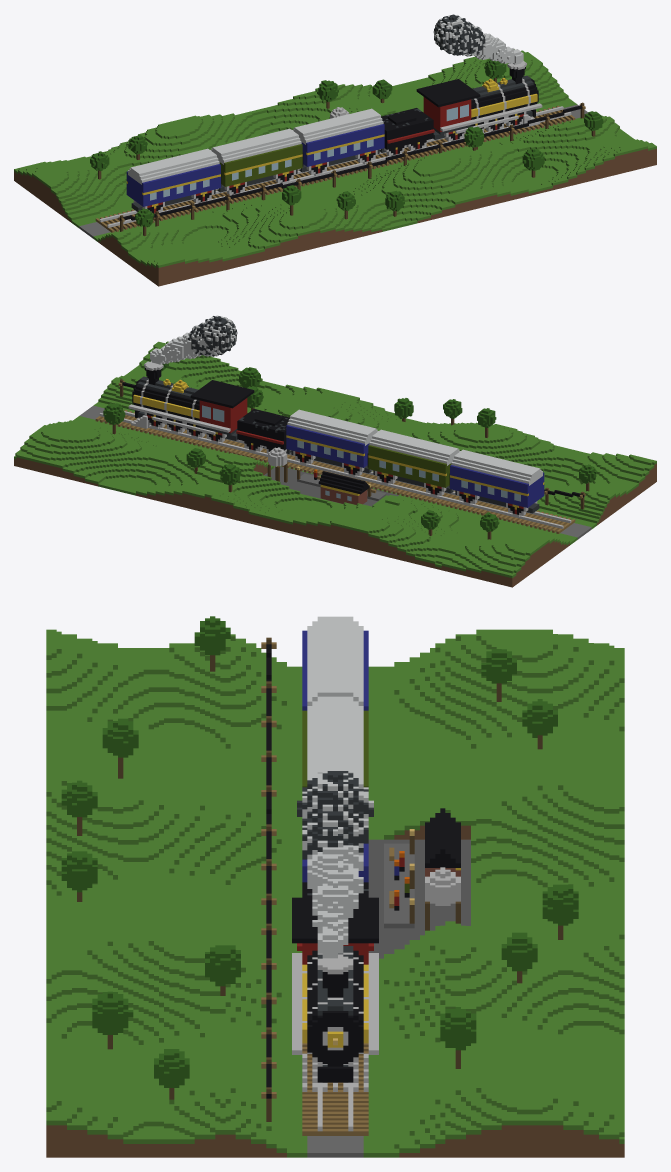
The picture shows the model from 3 angles, top to bottom: view 1: azimuth 30°, elevation 25°; view 2: azimuth 150°, elevation 25°; view 3: azimuth 270°, elevation 25°; orthographic projection. The views are drawn at different scales.
Size of the model in its own units: 225 by 55 by 113.
